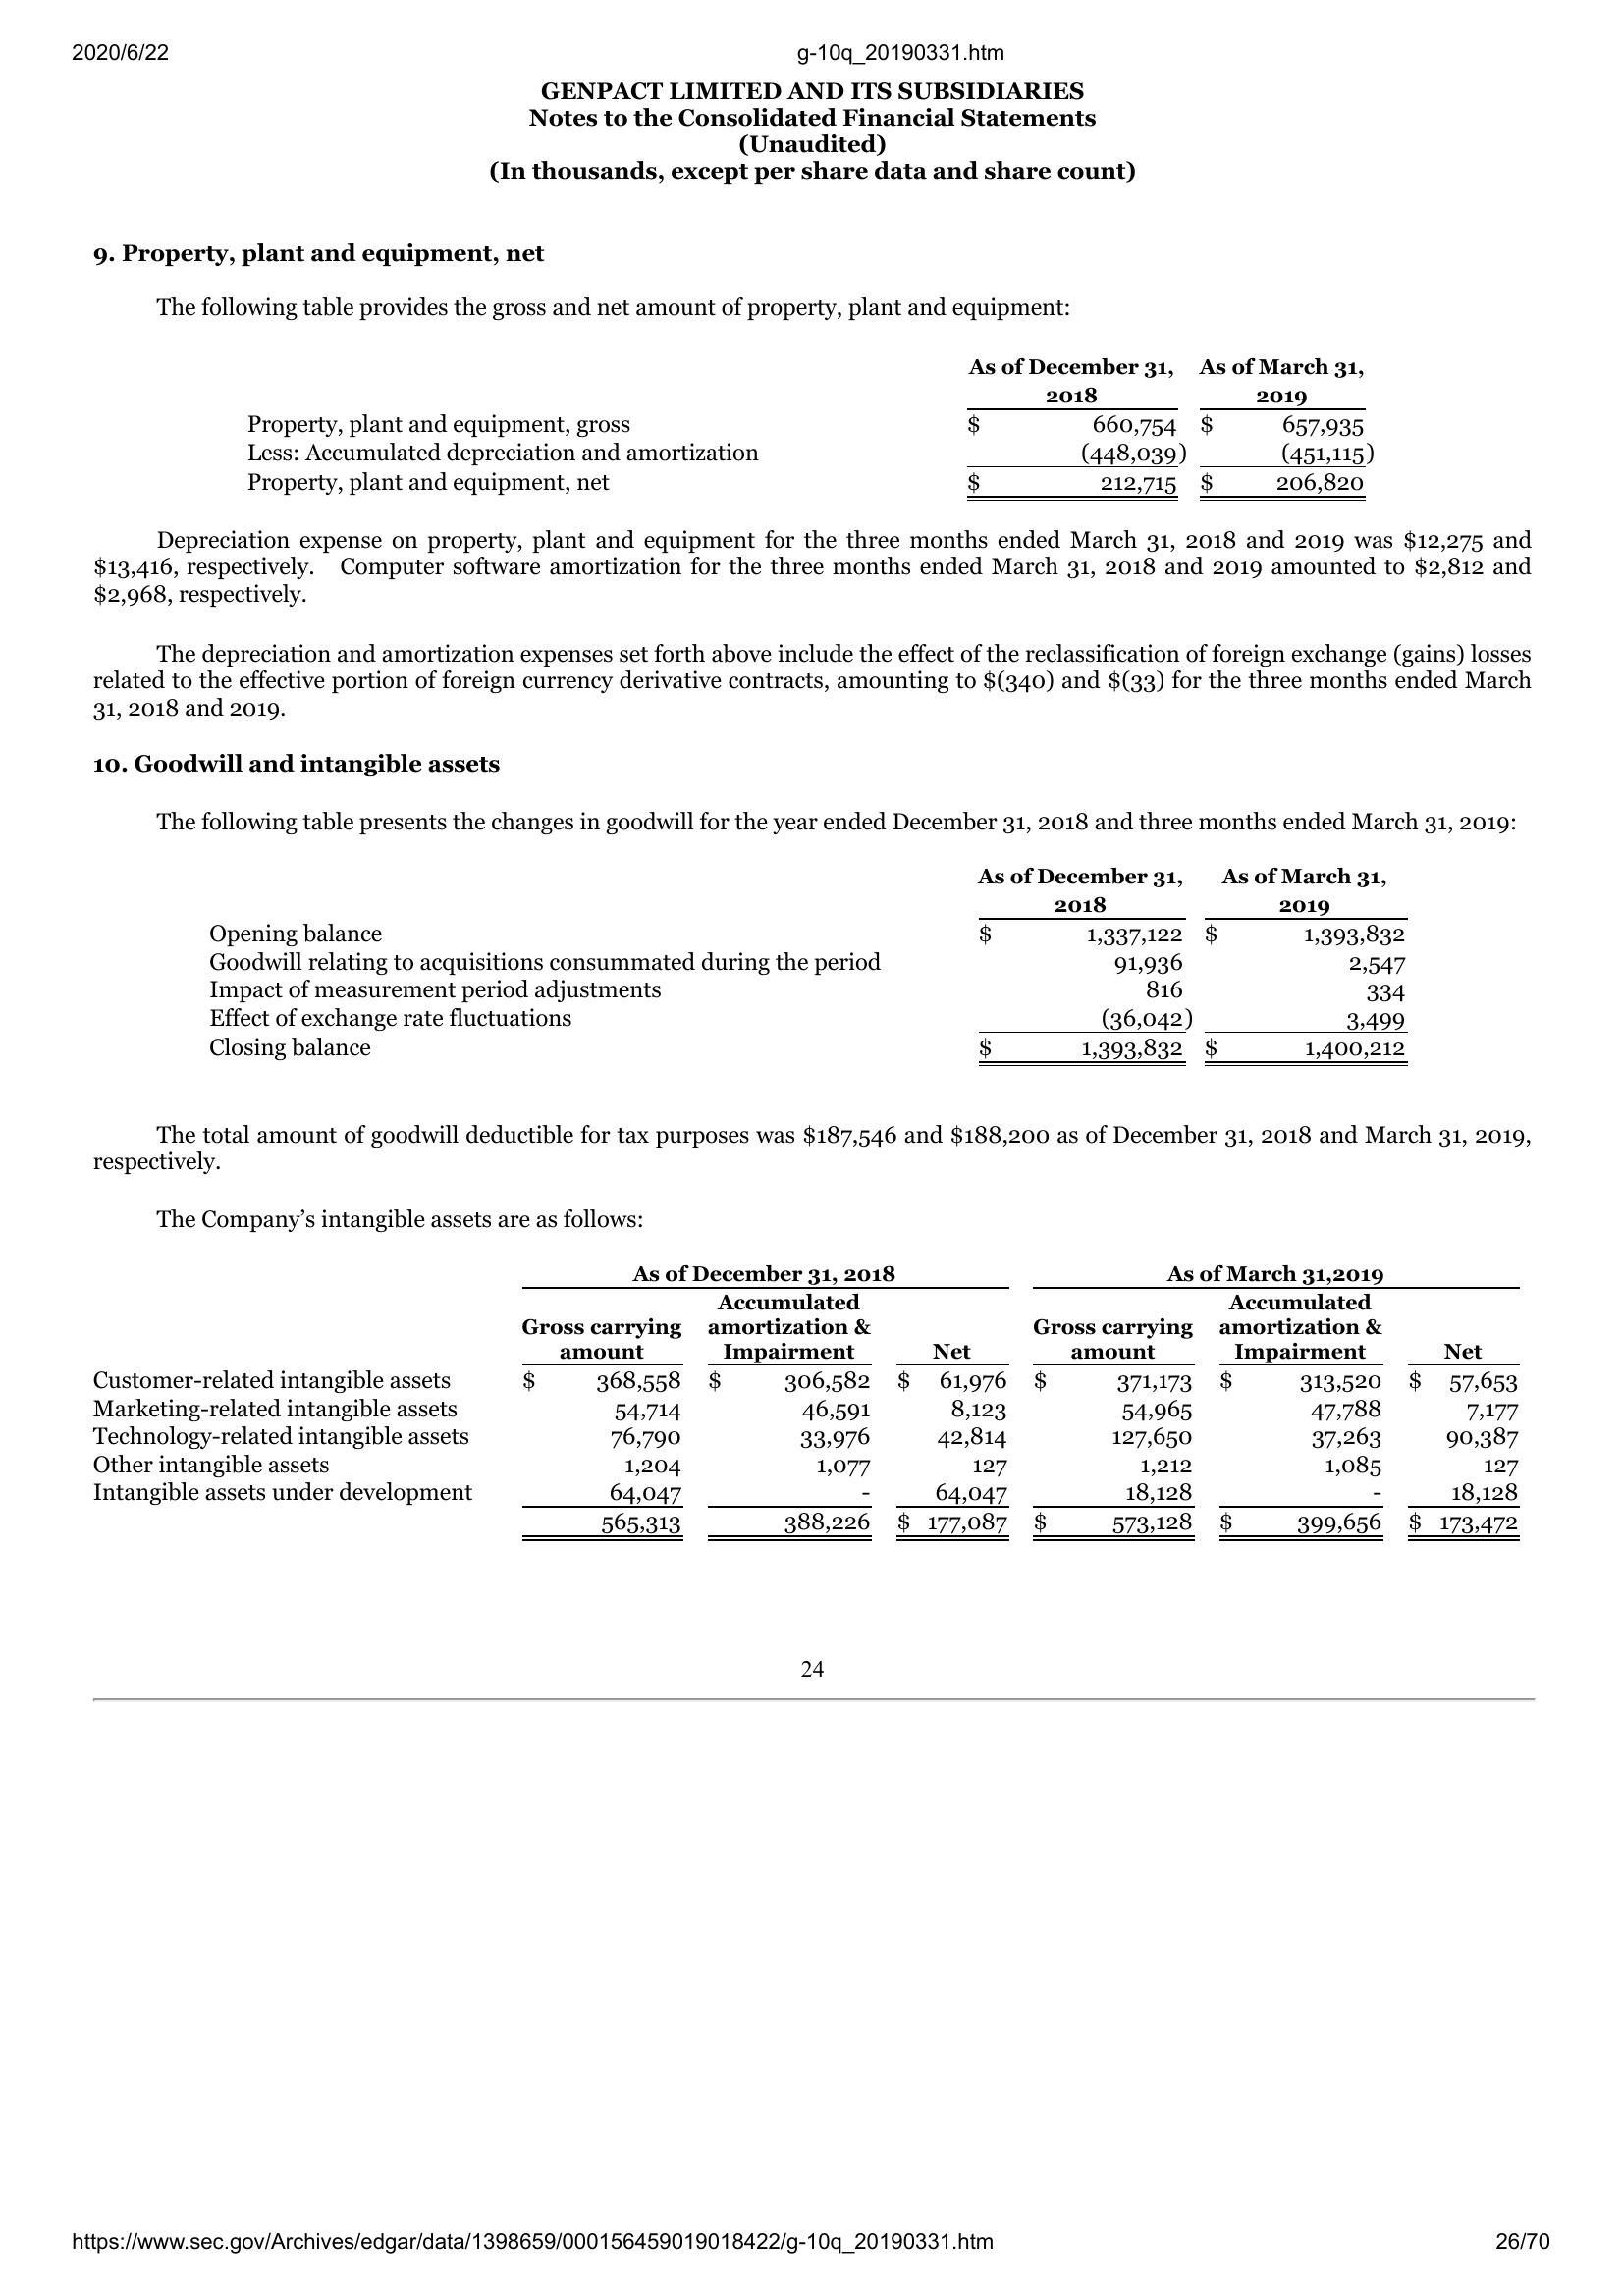table: (511, 1250, 1530, 1546), (198, 853, 1416, 1071), (235, 353, 1377, 511)
